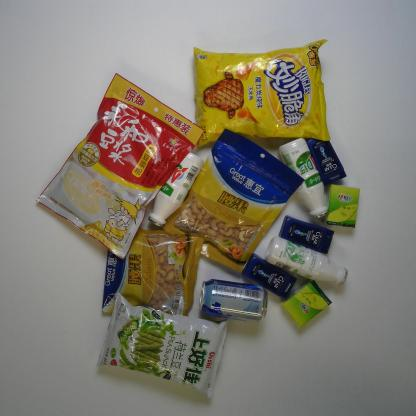Alcohol: (199, 278, 268, 323)
Dried Fruit: (161, 128, 305, 273), (101, 227, 205, 316)
Instant Drink: (35, 72, 205, 260)
Milk: (148, 152, 204, 228), (278, 137, 329, 219), (264, 236, 348, 285)
Personal Hygiene: (242, 253, 298, 300), (278, 215, 334, 254), (305, 138, 347, 186)
Puffed Food: (193, 39, 332, 150), (96, 292, 229, 398)
Tissue: (279, 278, 332, 328), (322, 183, 361, 228)
